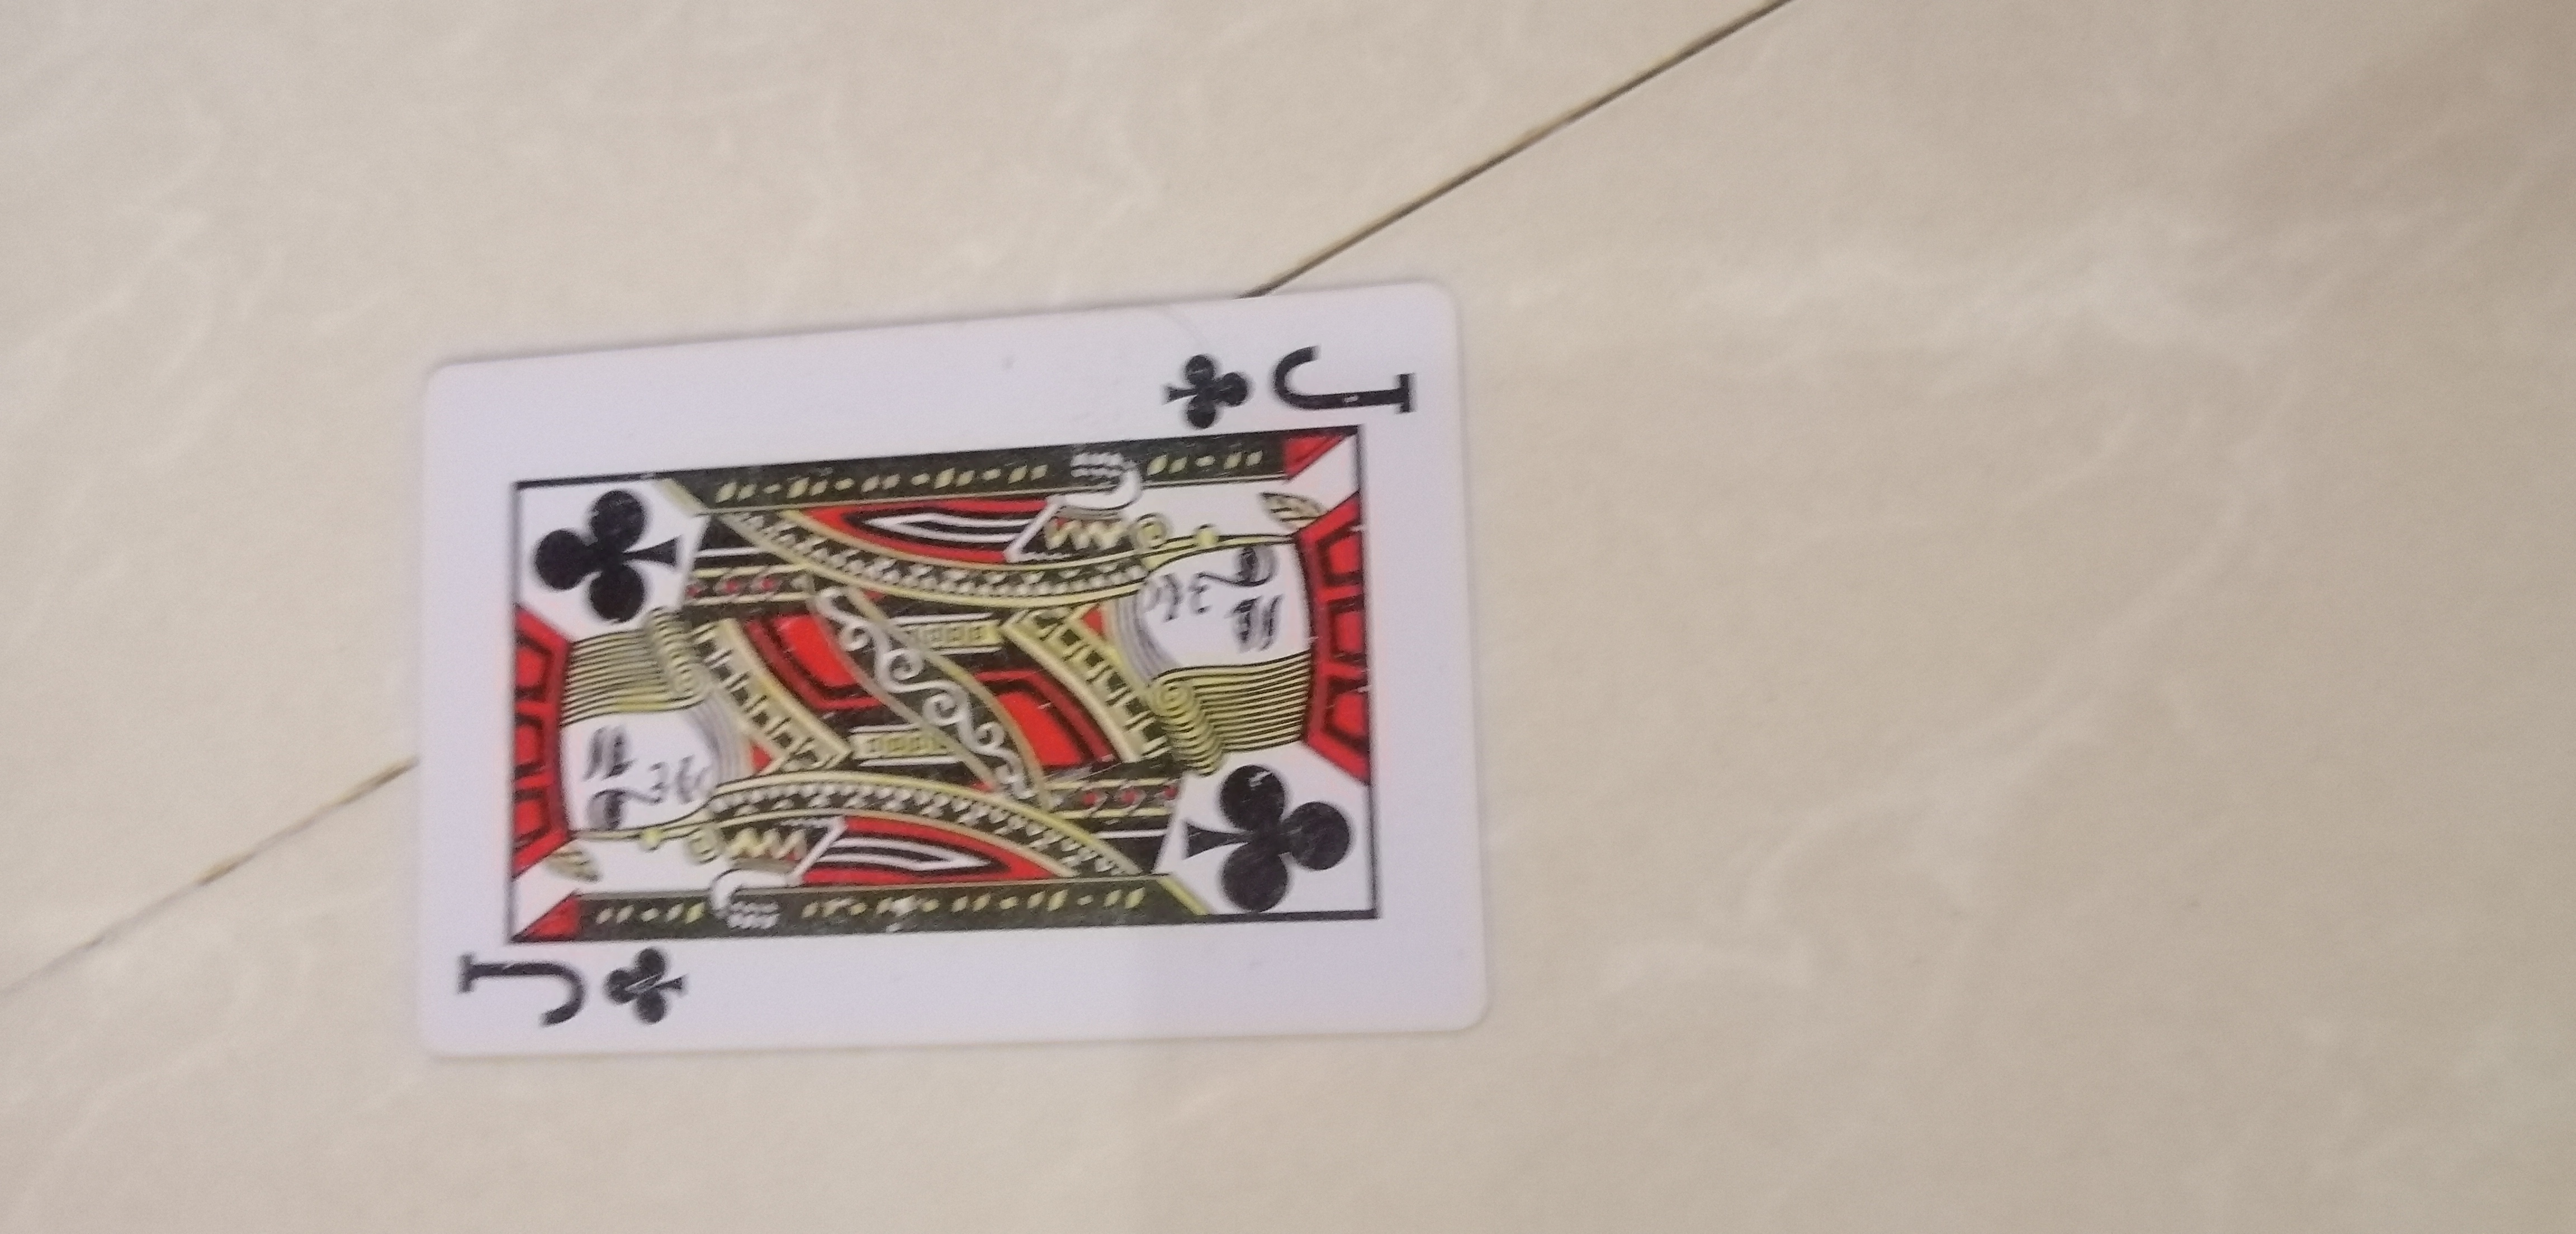jack: (379, 299, 1534, 1047)
